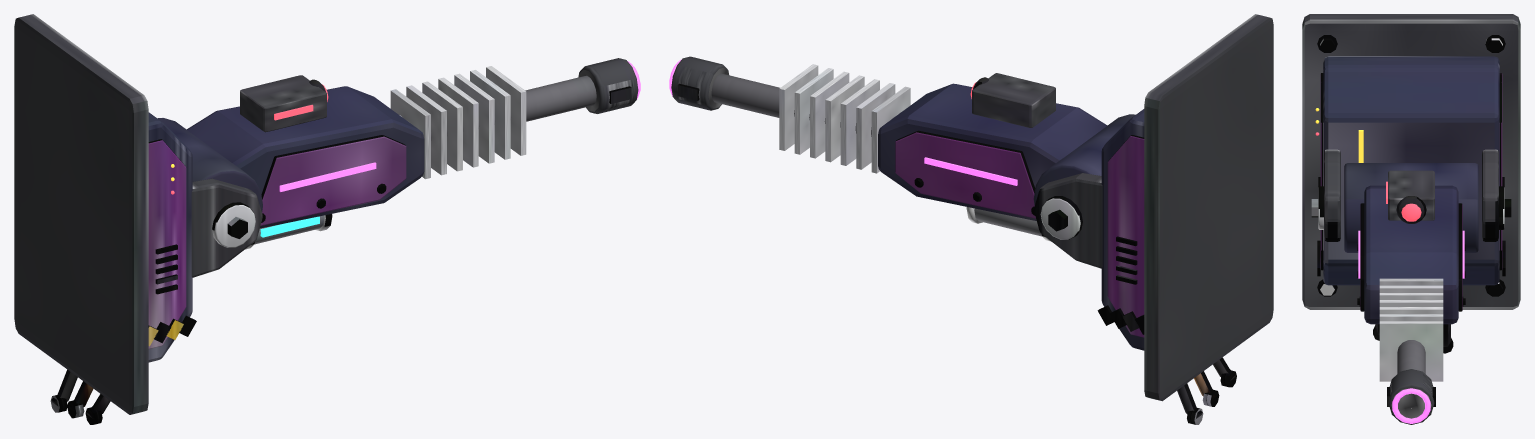
The model's file is wall_gun.glb.
3 renders of one model, left to right at view 1: azimuth 30°, elevation 25°; view 2: azimuth 150°, elevation 25°; view 3: azimuth 270°, elevation 25°, orthographic. The views are drawn at different scales.
Parts seen in each view (by area): view 1: body, gun_body, barrel_mesh, sensor_pod; view 2: body, gun_body, barrel_mesh, sensor_pod; view 3: body, gun_body, barrel_mesh, sensor_pod.
Part boxes in pixels (x1,y1,x2,y2): body: (14,14,262,424); gun_body: (157,86,424,249); barrel_mesh: (390,58,640,179); sensor_pod: (240,75,328,132); body: (1034,14,1273,424); gun_body: (878,83,1135,241); barrel_mesh: (669,56,910,173); sensor_pod: (970,73,1055,127); body: (1302,14,1520,353); gun_body: (1344,163,1478,324); barrel_mesh: (1379,278,1443,424); sensor_pod: (1386,170,1434,223).
Bounding box in the file's own units: 3.54 × 2.21 × 1.3.
6 materials, 1 textured.
